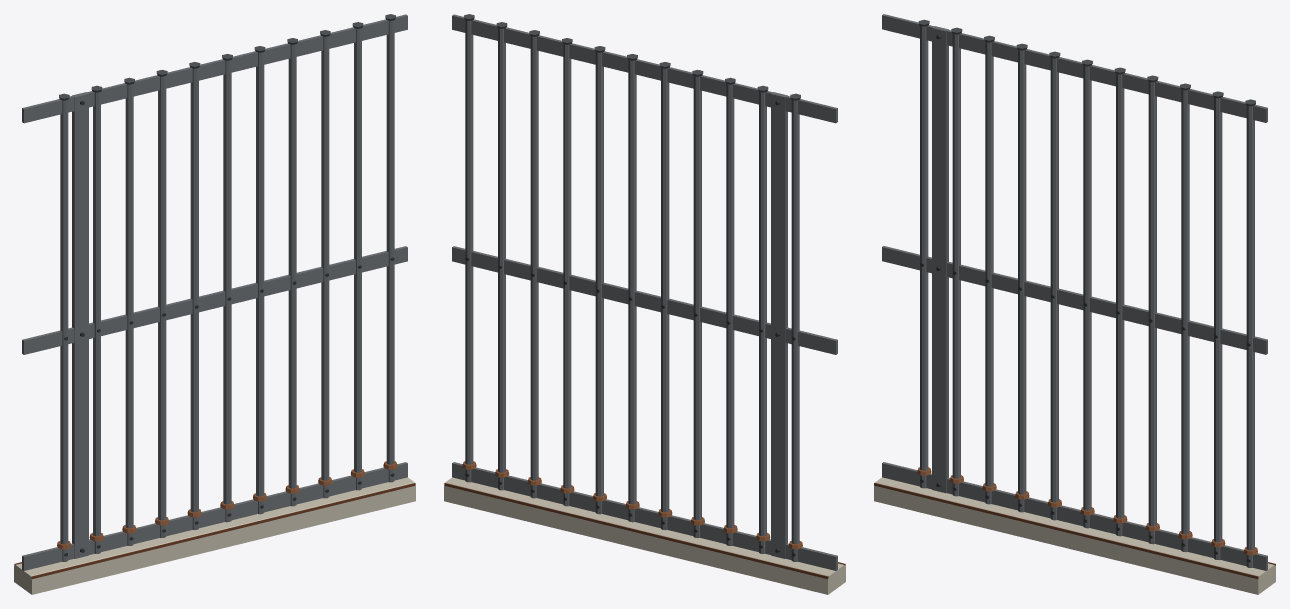
File: SM_LPD_Prison_PartitionRun_01.fbx
The picture shows the model from 3 angles, left to right: view 1: azimuth 30°, elevation 25°; view 2: azimuth 150°, elevation 25°; view 3: azimuth 330°, elevation 25°; orthographic projection.
Visible parts, largest first — view 1: SM_LPD_Prison_PartitionRun_01; view 2: SM_LPD_Prison_PartitionRun_01; view 3: SM_LPD_Prison_PartitionRun_01.
Part boxes in pixels (bbox=[...]): SM_LPD_Prison_PartitionRun_01: bbox=[14, 14, 415, 594]; SM_LPD_Prison_PartitionRun_01: bbox=[444, 14, 845, 594]; SM_LPD_Prison_PartitionRun_01: bbox=[874, 14, 1275, 594].
Size of the model in its own units: 2 by 2.4 by 0.16.
